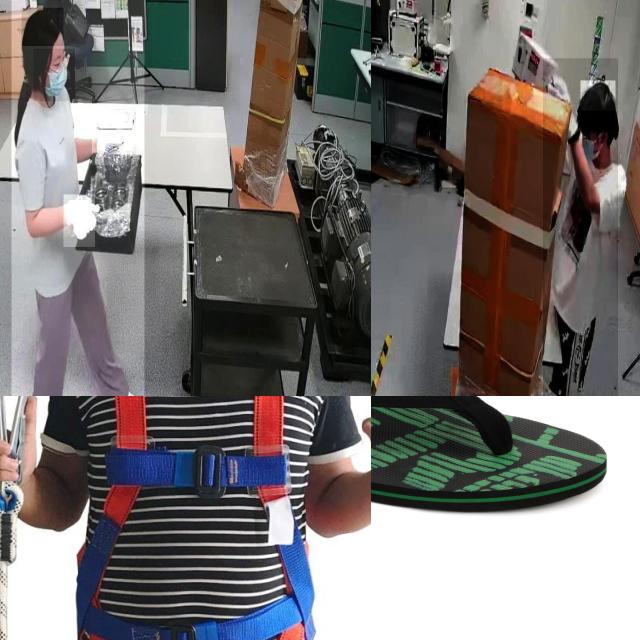Harness: (74, 396, 319, 640)
Sandals: (371, 396, 609, 515)
face_mask: (33, 49, 75, 101), (579, 125, 603, 172)
hand_glove: (64, 194, 96, 248), (92, 134, 126, 165)
head_nohelmet: (22, 8, 64, 47), (580, 80, 616, 112)
person: (11, 0, 144, 396), (543, 58, 618, 396)
shoes: (102, 377, 146, 396)
